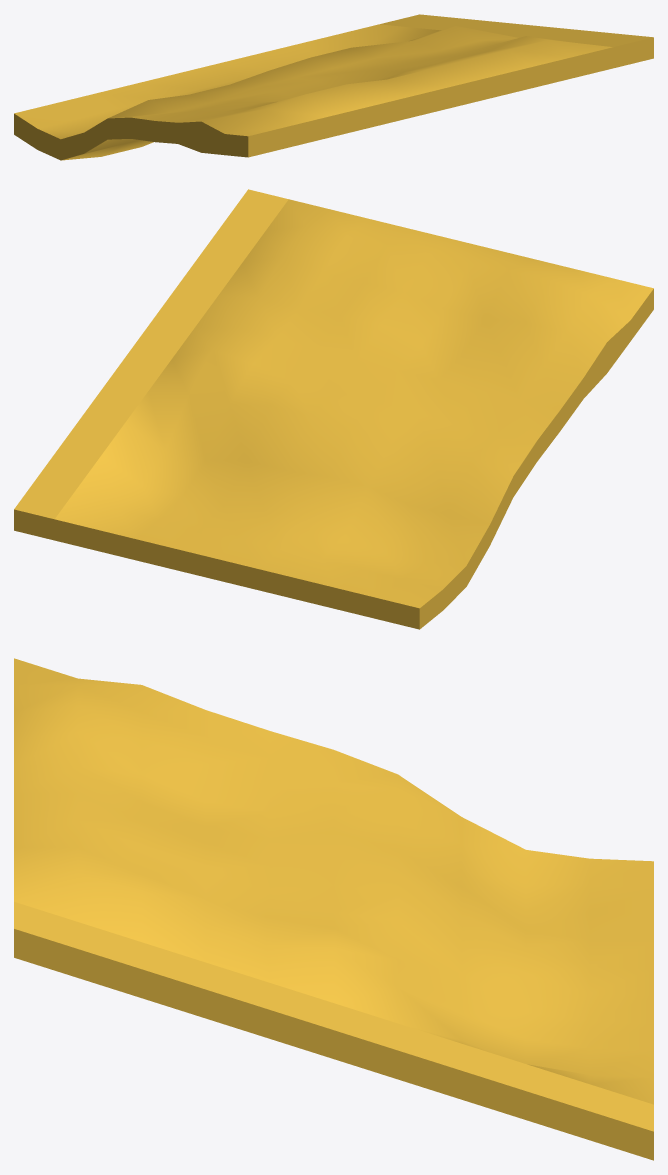
Rendered from Flach - Mitte - Hügel x - a.fbx.
The picture shows the model from 3 angles, top to bottom: view 1: azimuth 30°, elevation 25°; view 2: azimuth 150°, elevation 25°; view 3: azimuth 270°, elevation 25°; orthographic projection. The views are drawn at different scales.
Parts seen in each view (by area): view 1: Flach - Mitte - Hügel x - a; view 2: Flach - Mitte - Hügel x - a; view 3: Flach - Mitte - Hügel x - a.
Boxes of the visible parts, box(x1,y1,x2,y2) form: Flach - Mitte - Hügel x - a: box(14, 14, 653, 160); Flach - Mitte - Hügel x - a: box(14, 189, 653, 629); Flach - Mitte - Hügel x - a: box(14, 658, 653, 1160).
Bounding box in the file's own units: 394 × 162 × 394.
